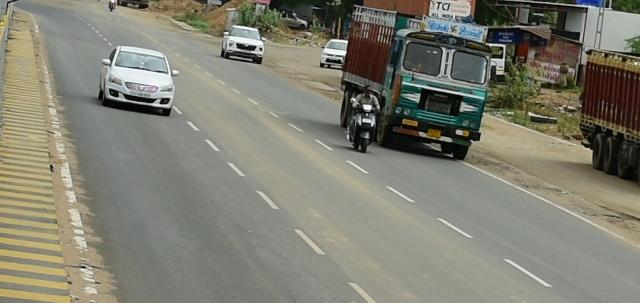Without Helmet: (362, 85, 374, 98)
